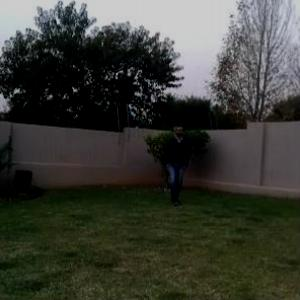follow: (163, 120, 189, 206)
